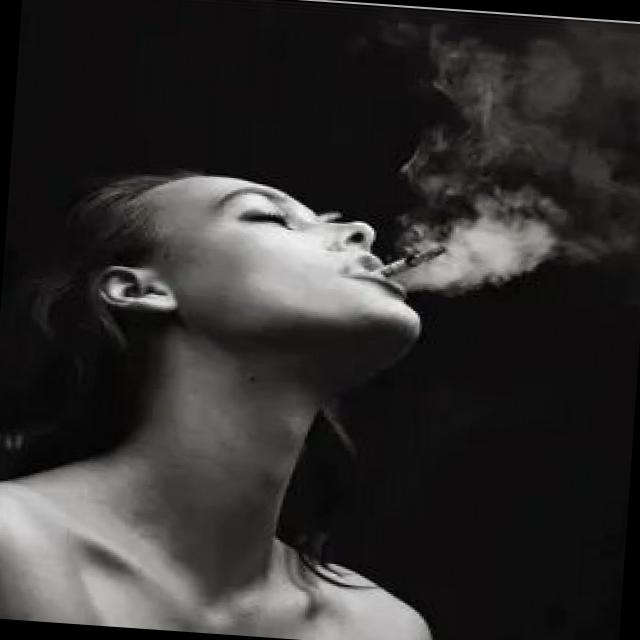smoke: (368, 234, 460, 288)
